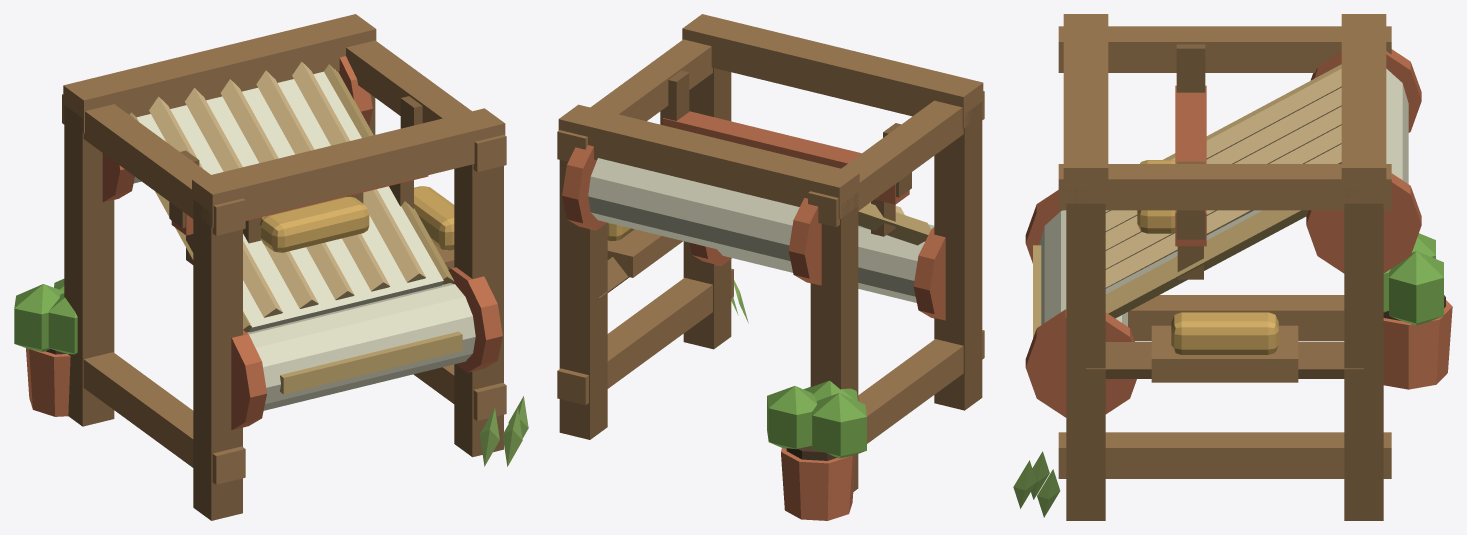
The model's file is loom.glb.
3 views of the same model, side by side, from view 1: azimuth 30°, elevation 25°; view 2: azimuth 150°, elevation 25°; view 3: azimuth 270°, elevation 25° (orthographic). The views are drawn at different scales.
Parts seen in each view (by area): view 1: move_spin_cloth_roller, Loom_broad_linen_web, Loom_crossbeam, Loom_crossbeam.001, Loom_timber_leg, Loom_timber_leg.001, Loom_timber_leg.002, Loom_side_rail.001, Loom_side_rail, Loom_side_rail.003, running_shuttle, Loom_warp_stripe.004 (+15 smaller); view 2: move_spin_warp_roller, Loom_crossbeam, Loom_crossbeam.001, Loom_timber_leg, Loom_timber_leg.003, Loom_timber_leg.001, move_spin_cloth_roller, Loom_side_rail.002, Loom_side_rail.001, Loom_side_rail, Loom_side_rail.003, Loom_timber_leg.002 (+10 smaller); view 3: Loom_timber_leg.002, Loom_timber_leg.003, Loom_side_rail.002, Loom_side_rail.003, Loom_side_rail.001, move_spin_cloth_roller, Loom_crossbeam, Loom_crossbeam.001, move_spin_warp_roller, Loom_side_rail, Loom_shuttle_tray, Loom_right_web_edge (+18 smaller).
Boxes of the visible parts, box(x1,y1,x2,y2) form: move_spin_cloth_roller: box(231, 267, 502, 429); Loom_broad_linen_web: box(136, 71, 443, 332); Loom_crossbeam: box(192, 108, 505, 227); Loom_crossbeam.001: box(63, 14, 376, 133); Loom_timber_leg: box(193, 199, 242, 520); Loom_timber_leg.001: box(64, 105, 114, 426); Loom_timber_leg.002: box(454, 164, 503, 457); Loom_side_rail.001: box(62, 94, 245, 235); Loom_side_rail: box(83, 352, 245, 484); Loom_side_rail.003: box(346, 40, 506, 172); running_shuttle: box(260, 196, 369, 252); Loom_warp_stripe.004: box(292, 61, 425, 282); move_spin_warp_roller: box(562, 145, 821, 285); Loom_crossbeam: box(682, 14, 983, 128); Loom_crossbeam.001: box(558, 104, 859, 219); Loom_timber_leg: box(934, 102, 982, 410); Loom_timber_leg.003: box(559, 160, 607, 439); Loom_timber_leg.001: box(810, 192, 858, 491); move_spin_cloth_roller: box(689, 224, 945, 320); Loom_side_rail.002: box(557, 268, 733, 405); Loom_side_rail.001: box(808, 91, 984, 227); Loom_side_rail: box(858, 330, 984, 443); Loom_side_rail.003: box(557, 39, 712, 161); Loom_timber_leg.002: box(683, 68, 731, 349); Loom_timber_leg.002: box(1066, 188, 1105, 520); Loom_timber_leg.003: box(1344, 190, 1383, 520); Loom_side_rail.002: box(1058, 432, 1391, 478); Loom_side_rail.003: box(1058, 164, 1391, 210); Loom_side_rail.001: box(1058, 26, 1391, 72); move_spin_cloth_roller: box(1025, 190, 1136, 417); Loom_crossbeam: box(1063, 14, 1108, 203); Loom_crossbeam.001: box(1341, 14, 1386, 203); move_spin_warp_roller: box(1306, 49, 1421, 273); Loom_side_rail: box(1128, 295, 1344, 341); Loom_shuttle_tray: box(1151, 325, 1298, 382); Loom_right_web_edge: box(1105, 210, 1308, 318).
Size of the model in its own units: 1.7 by 1.48 by 1.68.
